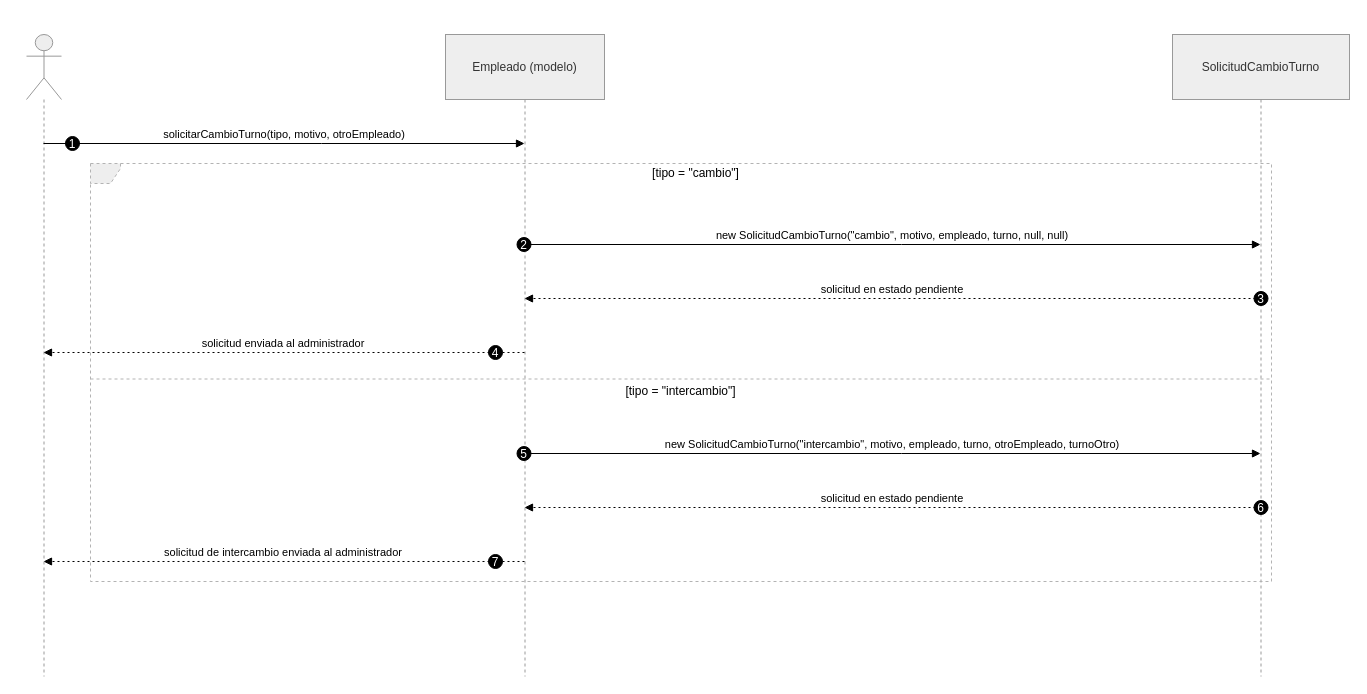
Some shapes in this 1367 by 694 pixel diagram are drawn without their labels. The box of each missing label's shape, as (x1, y1, x2, y2) in pixels:
alt: (90, 162, 1272, 582)
Empleado: (26, 34, 62, 676)
